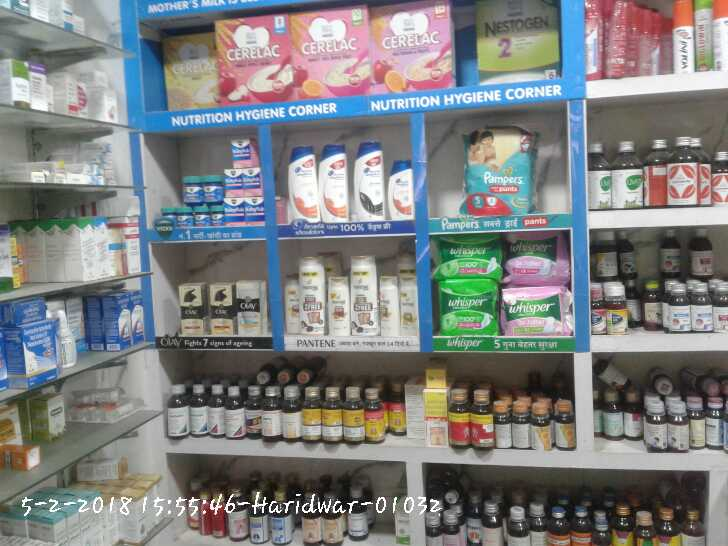vicks: (161, 131, 266, 235)
